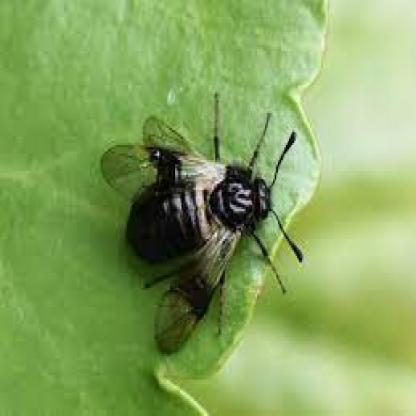sawfly: (98, 86, 312, 362)
